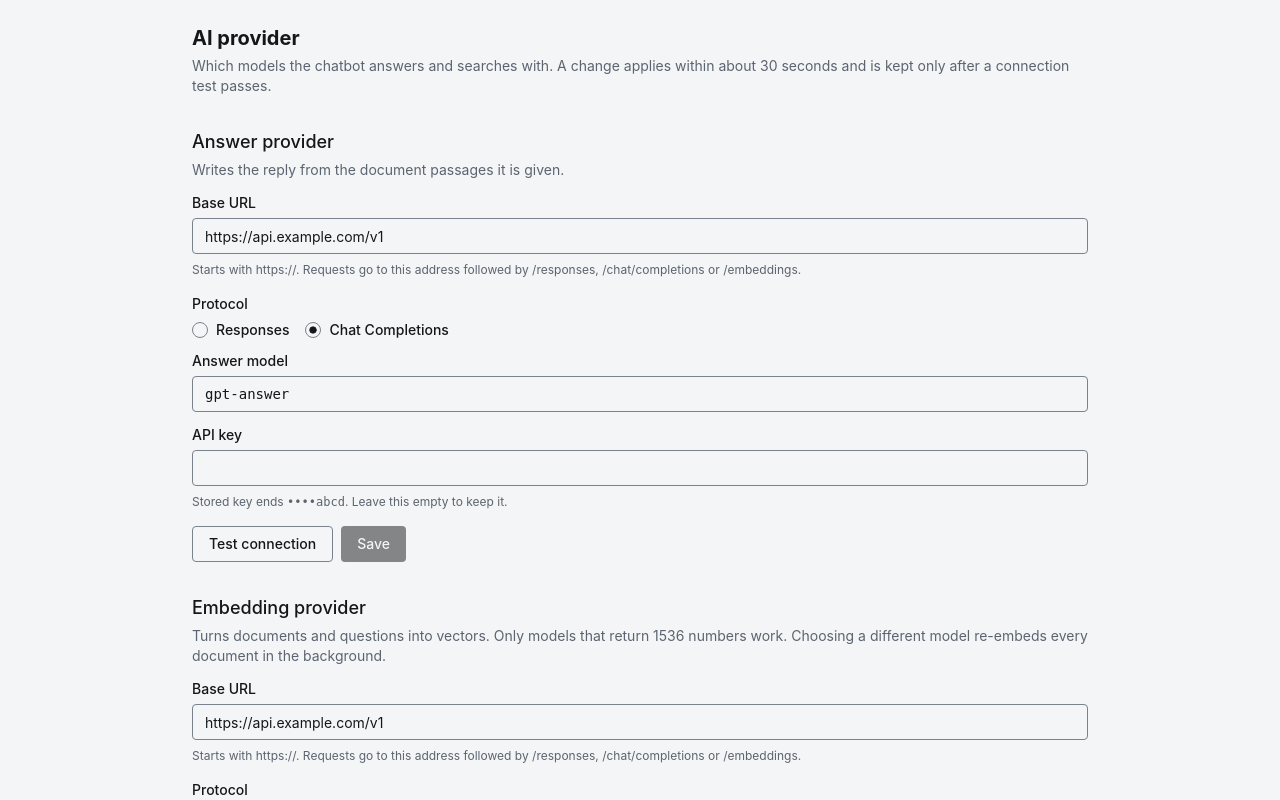
Test: asks for a new key when the base URL changes, so the stored key is never sent to another address
Step 1. Replace the text in the field labelled "Base URL" below "Answer provider" with "https://ai.other-provider.test/v1" → coordinates (640, 236), box [192,218,1088,254]
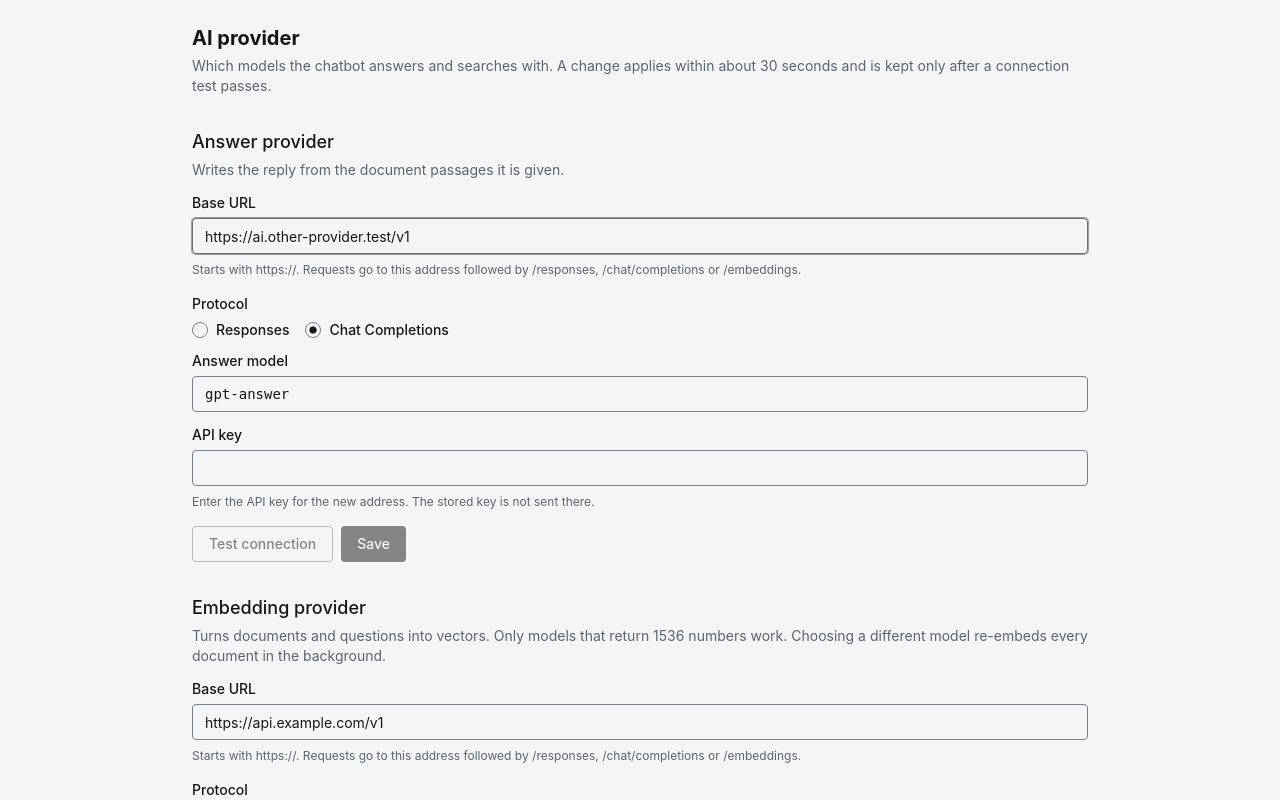
Expected: the button with aria-label "Save answer provider" is disabled, [341,526,406,562]
Expected: the text "Enter the API key for the new address" is shown, [192,494,594,509]
Expected: the button with aria-label "Test answer connection" is disabled, [192,526,333,562]
Step 2. Type "sk-new-address" into the password field labelled "API key" → coordinates (640, 468), box [192,450,1088,486]
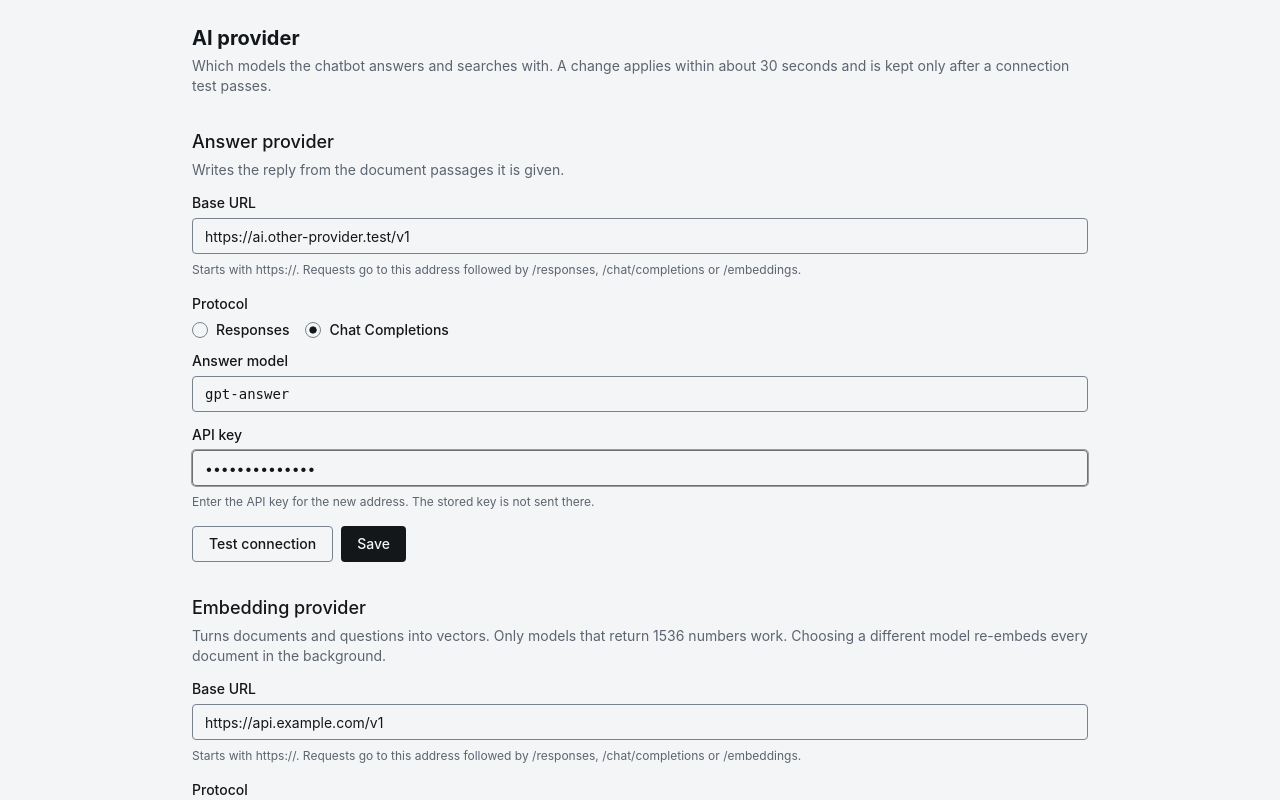
Expected: the button with aria-label "Save answer provider" is enabled, [341,526,406,562]
